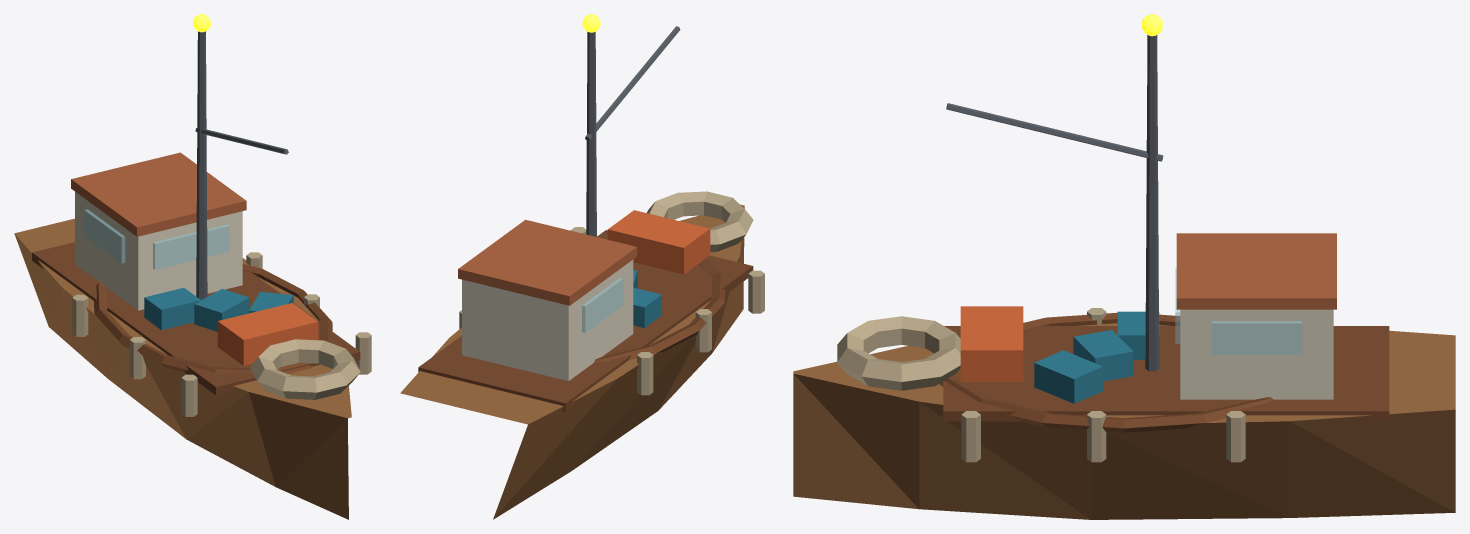
Rendered from boat-fishing.glb.
The picture shows the model from 3 angles, left to right: view 1: azimuth 30°, elevation 25°; view 2: azimuth 150°, elevation 25°; view 3: azimuth 270°, elevation 25°; orthographic projection. The views are drawn at different scales.
Parts seen in each view (by area): view 1: boat-fishing; view 2: boat-fishing; view 3: boat-fishing.
Boxes of the visible parts, box(x1,y1,x2,y2) form: boat-fishing: box(14, 14, 371, 519); boat-fishing: box(400, 14, 764, 519); boat-fishing: box(793, 14, 1455, 519).
Size of the model in its own units: 3.8 by 7.62 by 9.5.
